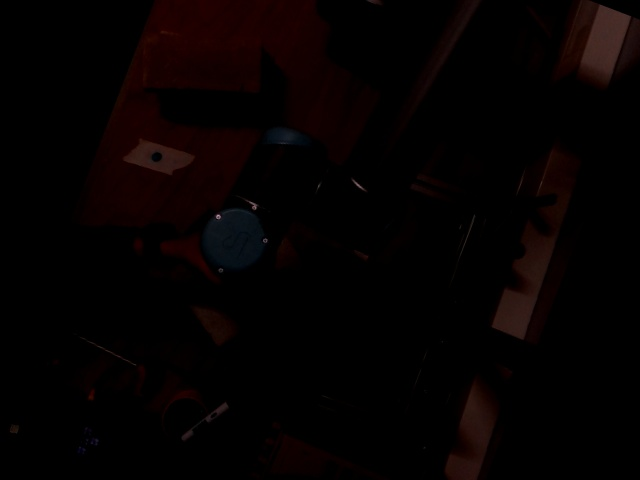brick: (144, 33, 259, 89)
